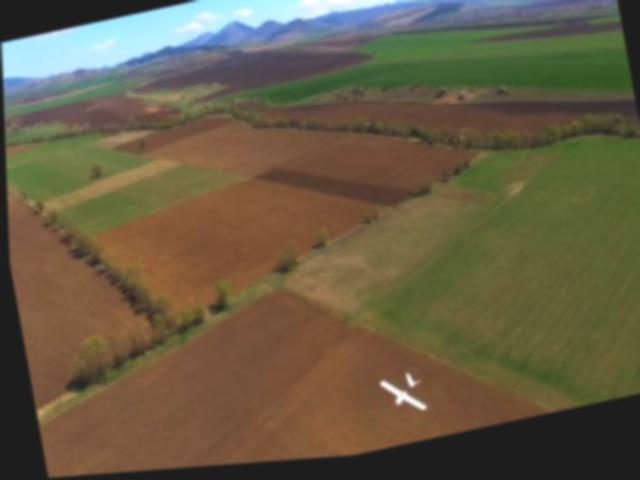uav: (371, 366, 432, 434)
